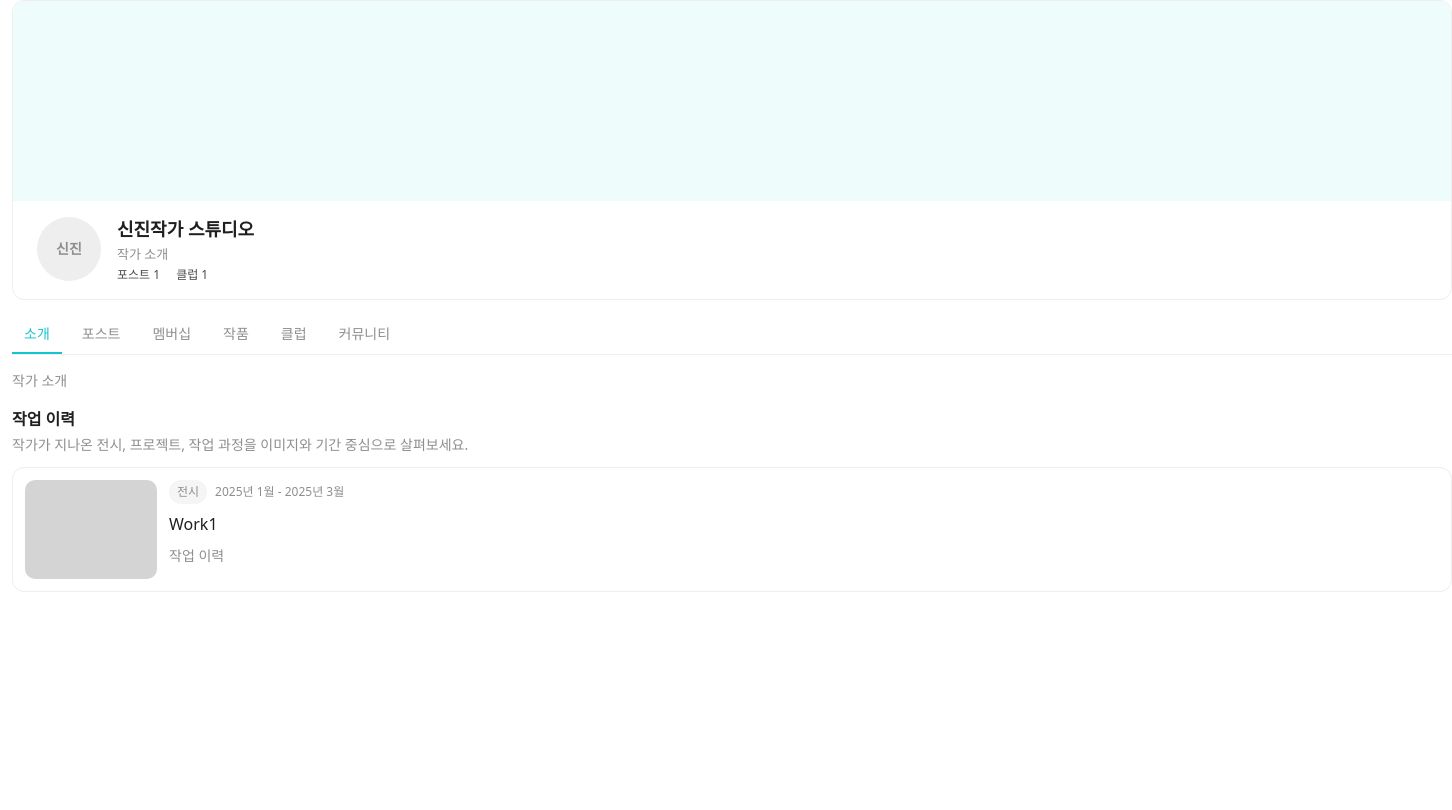
Test: StudioTabs › switches to 작품 tab and shows artworks
Click the tab "작품": (236, 335) [211,316,261,354]
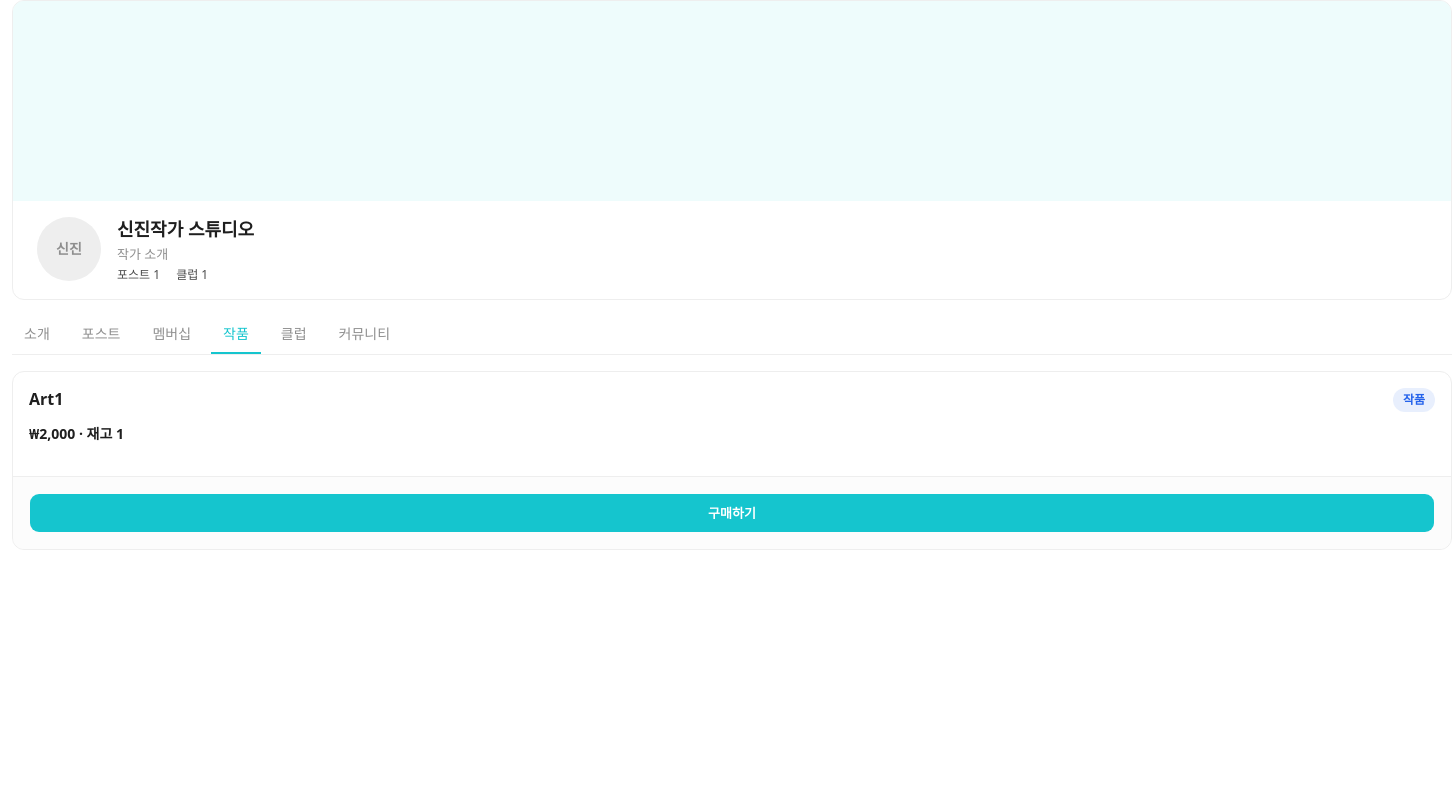
Check: the text "Art1" is shown, box [29,388,63,410]
